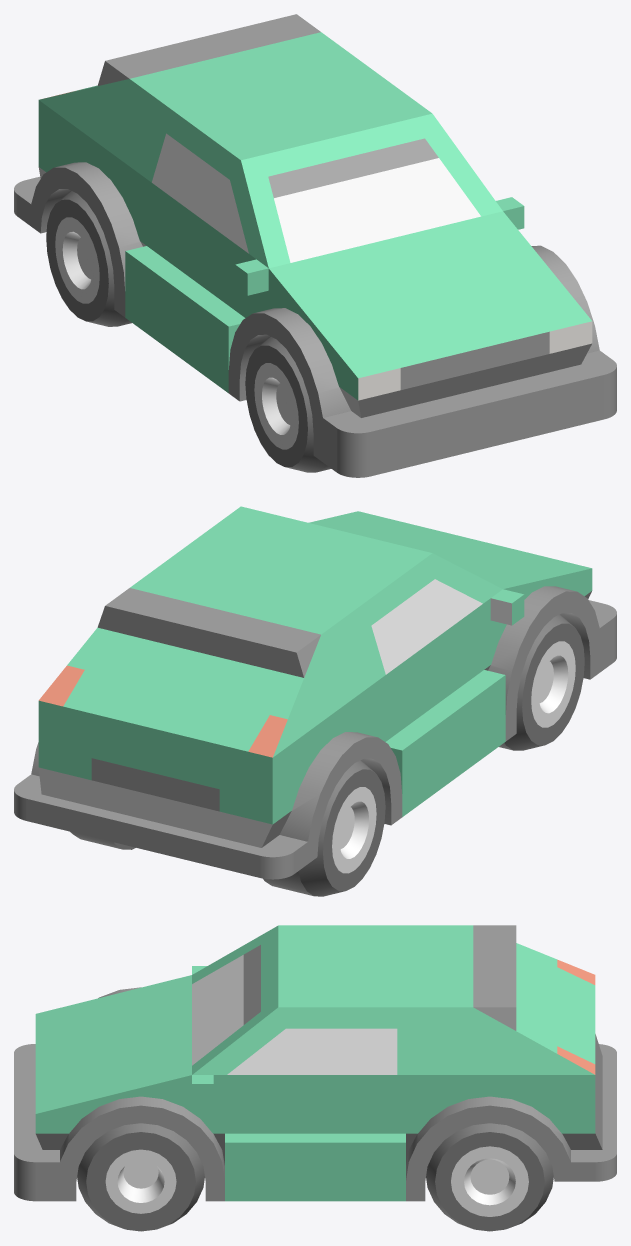
Rendered from electric.gltf.
The picture shows the model from 3 angles, top to bottom: view 1: azimuth 30°, elevation 25°; view 2: azimuth 150°, elevation 25°; view 3: azimuth 270°, elevation 25°; orthographic projection. The views are drawn at different scales.
Visible parts, largest first — view 1: hatchbackSports; view 2: hatchbackSports; view 3: hatchbackSports.
Part boxes in pixels (x1=…): hatchbackSports: x1=14, y1=14, x2=616, y2=477; hatchbackSports: x1=14, y1=506, x2=616, y2=896; hatchbackSports: x1=14, y1=925, x2=616, y2=1231.
Bounding box in the file's own units: 0.975 × 0.825 × 2.1.
